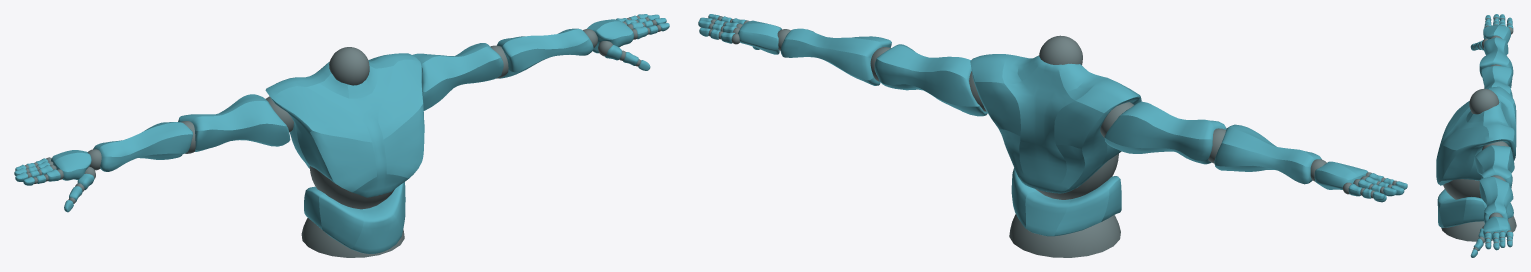
The model's file is viewmodel_template.fbx.
3 renders of one model, left to right at view 1: azimuth 30°, elevation 25°; view 2: azimuth 150°, elevation 25°; view 3: azimuth 270°, elevation 25°, orthographic. The views are drawn at different scales.
Visible parts, largest first — view 1: Alpha_Surface, Alpha_Joints; view 2: Alpha_Surface, Alpha_Joints; view 3: Alpha_Surface, Alpha_Joints.
Part boxes in pixels (x1,y1,x2,y2): Alpha_Surface: (14, 14, 669, 253); Alpha_Joints: (25, 15, 661, 257); Alpha_Surface: (698, 14, 1407, 236); Alpha_Joints: (708, 16, 1397, 257); Alpha_Surface: (1436, 14, 1516, 257); Alpha_Joints: (1441, 17, 1516, 251).
Bounding box in the file's own units: 195 × 52.8 × 28.42.
